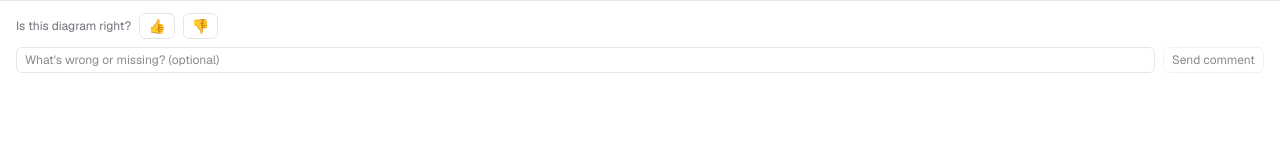
Scenario: RateDiagram › hides the saved notice and enables Send comment only while the comment has unsaved edits
Step 1. Click the button named "Rate helpful" → (157, 26), box [139, 13, 175, 39]
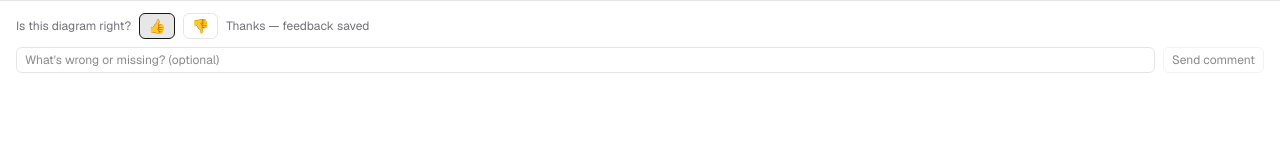
Expected: the button "Send comment" is disabled, [1163, 47, 1264, 73]
Now the text "Thanks — feedback saved" is shown, box [226, 18, 369, 34]
Step 2. Type "x" into the field named "Comment (optional)" → (585, 60), box [16, 47, 1155, 73]
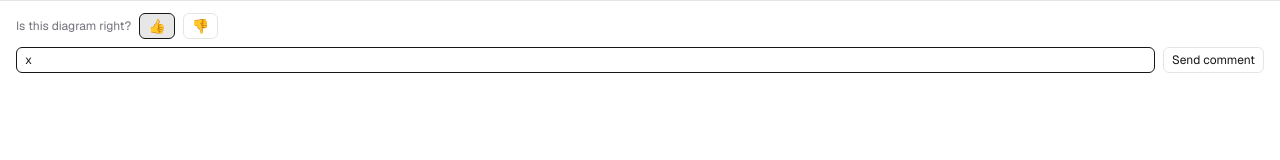
Now the text "Thanks — feedback saved" is gone
Now the button "Send comment" is enabled, box [1163, 47, 1264, 73]
Step 3. Clear the field named "Comment (optional)" → (585, 60), box [16, 47, 1155, 73]
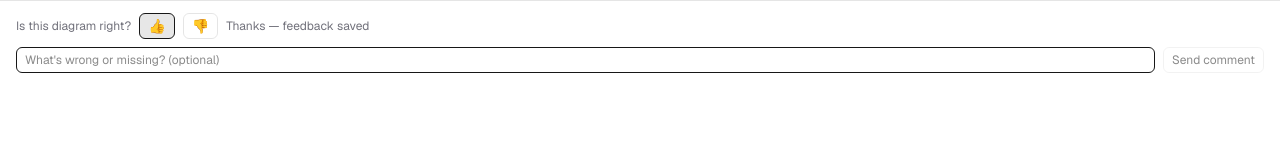
Now the text "Thanks — feedback saved" is shown, box [226, 18, 369, 34]
Now the button "Send comment" is disabled, box [1163, 47, 1264, 73]
